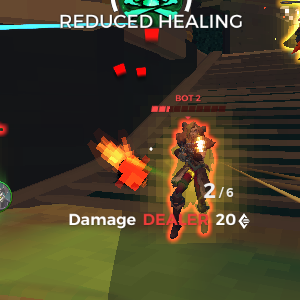model: (161, 115, 217, 242)
